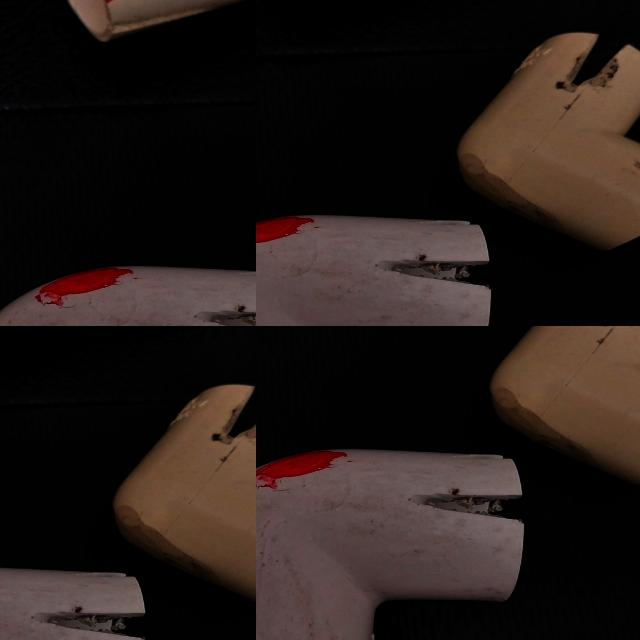Defective: (408, 486, 527, 528), (0, 543, 50, 599), (256, 456, 337, 478), (0, 516, 28, 566), (0, 509, 16, 547), (0, 506, 18, 533)
L Joint: (256, 448, 534, 640), (484, 326, 640, 495)
